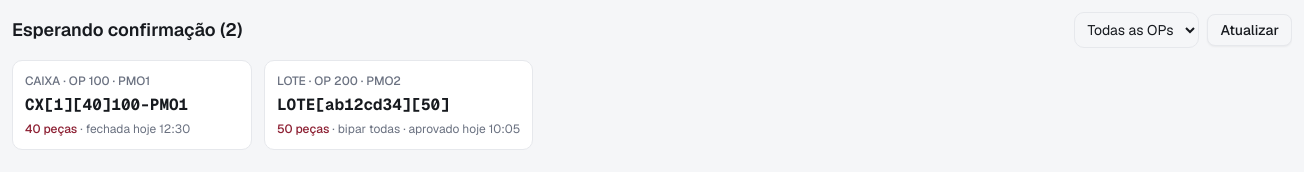
ListaCartoes › o filtro por OP esconde as outras
The width and height of the screenshot is (1304, 172).
Select "200 · PMO2" in the dropdown named "Filtrar por OP" at (1137, 30), box [1074,12,1199,48]
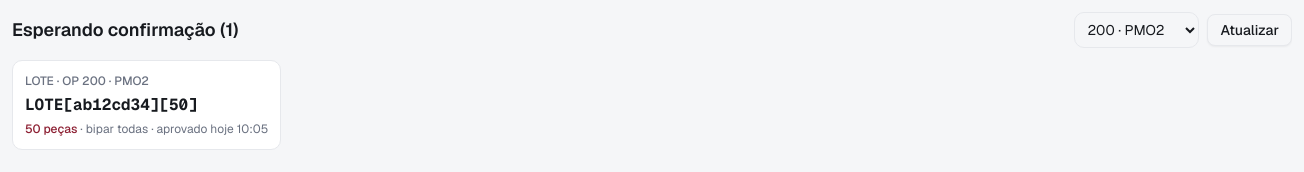
Check: the text "LOTE[ab12cd34][50]" is shown, box [25,93,198,117]
Check: the button "CX[1][40]100-PMO1" is gone
